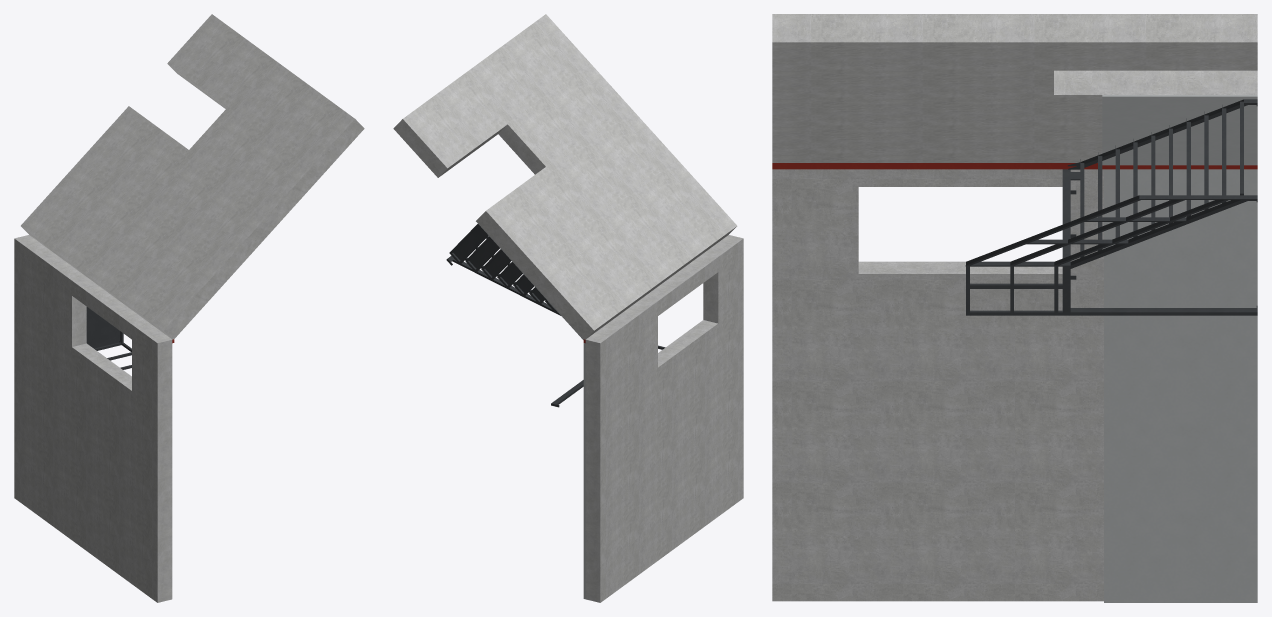
Rendered from escalera-emergencia-falsa-escuadra-olaso-mwyk8nuz.glb.
The picture shows the model from 3 angles, left to right: view 1: azimuth 30°, elevation 25°; view 2: azimuth 150°, elevation 25°; view 3: azimuth 270°, elevation 25°; orthographic projection. The views are drawn at different scales.
Visible parts, largest first — view 1: Body3, Body1, CHAPA_RELLANO; view 2: Body3, Body1, Body7; view 3: Body1, Body7, Body3, Body5, barandilla_(1), Body2, Body54, Body90, Body97, rellano.
Boxes of the visible parts, <box> form: Body3: <box>21,14,364,339</box>; Body1: <box>14,235,172,602</box>; CHAPA_RELLANO: <box>86,307,120,348</box>; Body3: <box>393,14,736,339</box>; Body1: <box>585,235,743,602</box>; Body7: <box>583,343,585,599</box>; Body1: <box>772,169,1103,601</box>; Body7: <box>1104,169,1257,602</box>; Body3: <box>772,14,1257,162</box>; Body5: <box>1102,95,1257,165</box>; barandilla_(1): <box>966,195,1244,315</box>; Body2: <box>772,163,1257,169</box>; Body54: <box>1070,308,1256,315</box>; Body90: <box>1070,195,1256,268</box>; Body97: <box>1080,99,1256,167</box>; rellano: <box>1063,169,1070,315</box>.
Bounding box in the file's own units: 4.17 × 8.39 × 5.
Materials: 4 (4 with a texture image).
